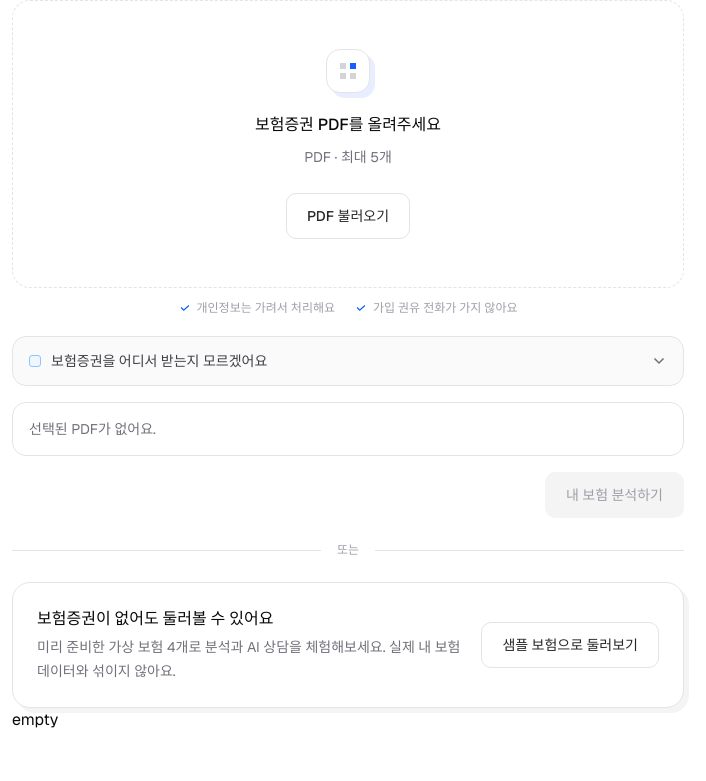
Test: UploadOptions › opens a precomputed sample as a separate analysis session
Click the button "샘플 보험으로 둘러보기". click: (570, 645)
box: [481,622,659,668]
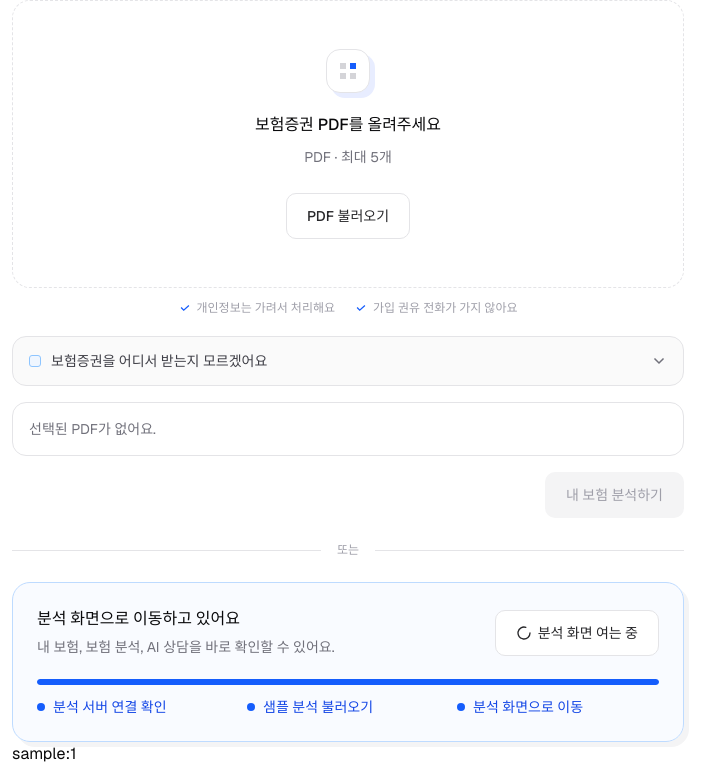
Now the text "sample:1" is shown, box [12,743,76,764]
